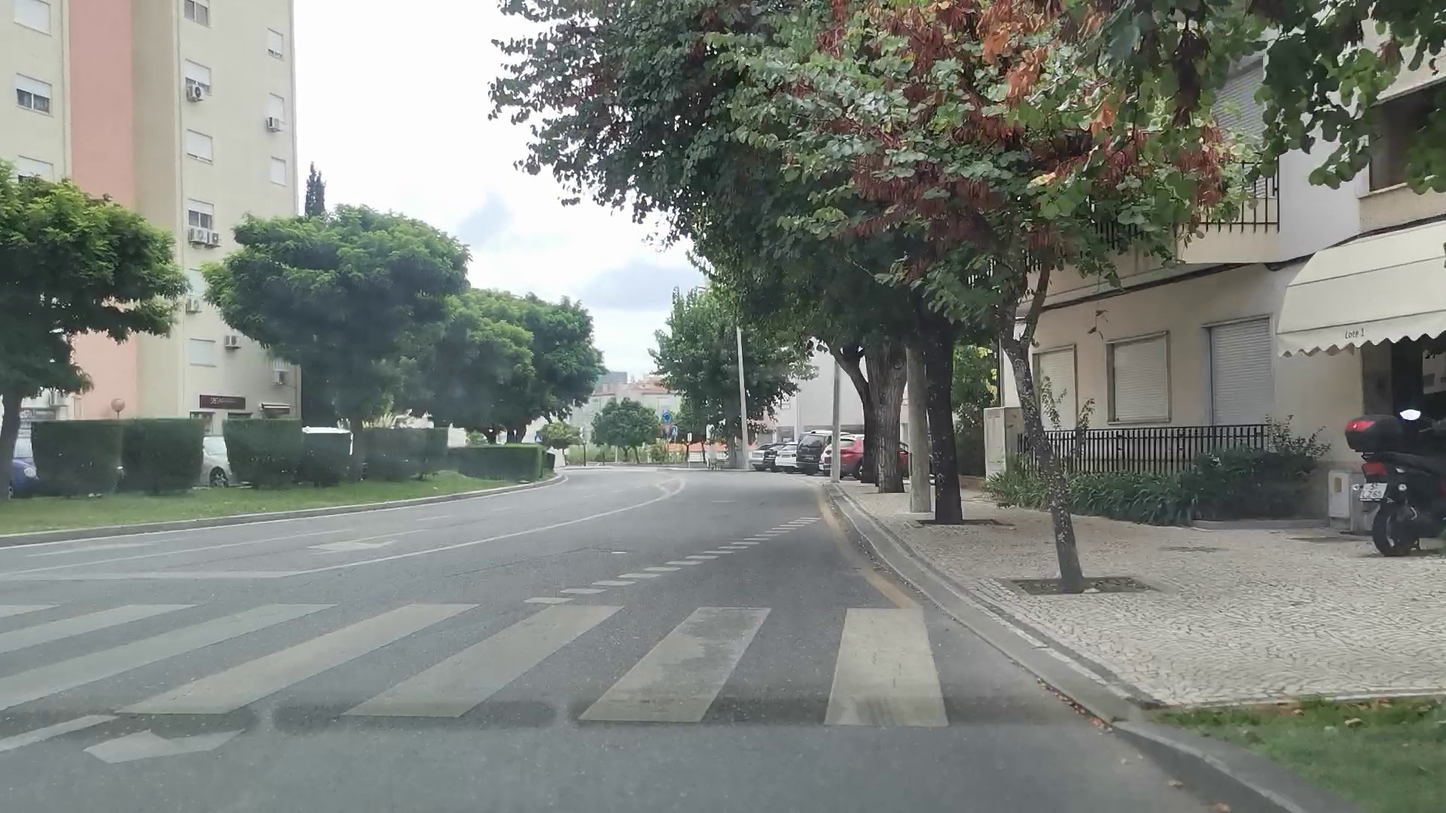Stairs: (0, 597, 959, 739)
